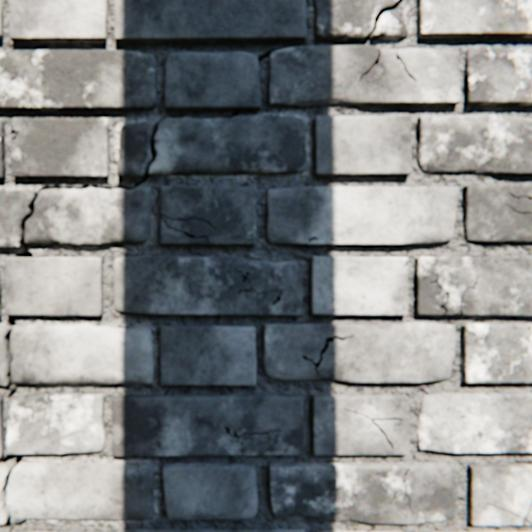brick: (267, 46, 459, 108), (268, 461, 456, 523), (112, 394, 302, 455), (262, 322, 454, 382), (266, 187, 458, 245), (113, 256, 301, 315), (0, 51, 157, 111), (115, 0, 305, 44), (416, 391, 531, 452), (414, 116, 531, 175), (413, 257, 531, 315), (8, 392, 105, 453), (313, 116, 410, 176), (311, 394, 408, 454), (12, 119, 109, 178), (6, 257, 103, 315), (310, 256, 407, 314), (160, 325, 255, 384), (165, 53, 260, 111), (161, 187, 256, 244), (163, 462, 257, 518), (416, 0, 531, 39), (10, 0, 108, 44), (459, 323, 531, 382), (466, 462, 531, 524), (461, 185, 531, 242), (463, 48, 531, 106), (117, 528, 304, 531), (0, 120, 6, 179), (0, 396, 5, 457), (427, 529, 531, 531), (316, 529, 400, 531), (0, 0, 4, 39), (525, 503, 531, 521), (0, 266, 2, 316), (12, 530, 105, 531), (523, 520, 531, 524)
broken_brick: (149, 116, 305, 175), (8, 461, 153, 522), (11, 323, 153, 382), (26, 188, 151, 245), (313, 0, 397, 43), (118, 122, 156, 178), (0, 190, 35, 248), (369, 0, 409, 40), (0, 463, 10, 524), (0, 326, 10, 385)
crack: (15, 121, 161, 257), (343, 407, 401, 447), (301, 335, 353, 374), (359, 0, 404, 45), (1, 453, 23, 531), (161, 213, 216, 241), (486, 499, 531, 524), (4, 315, 17, 399), (428, 273, 448, 314), (224, 426, 271, 442), (358, 49, 379, 83), (395, 53, 415, 82), (391, 465, 408, 499), (461, 275, 477, 295), (238, 284, 266, 294), (257, 51, 277, 63), (272, 289, 285, 305), (508, 192, 531, 199), (509, 206, 531, 213), (453, 297, 461, 314), (164, 117, 216, 119), (12, 126, 20, 139), (228, 111, 240, 118), (13, 172, 33, 176), (242, 272, 249, 282), (408, 501, 412, 515), (308, 236, 317, 242)
